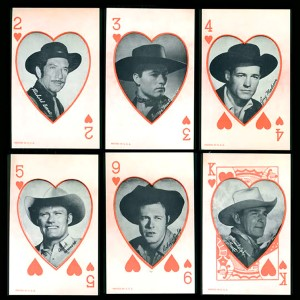KingOfHearts: (201, 151, 293, 296)
NineOfHearts: (104, 151, 196, 296)
